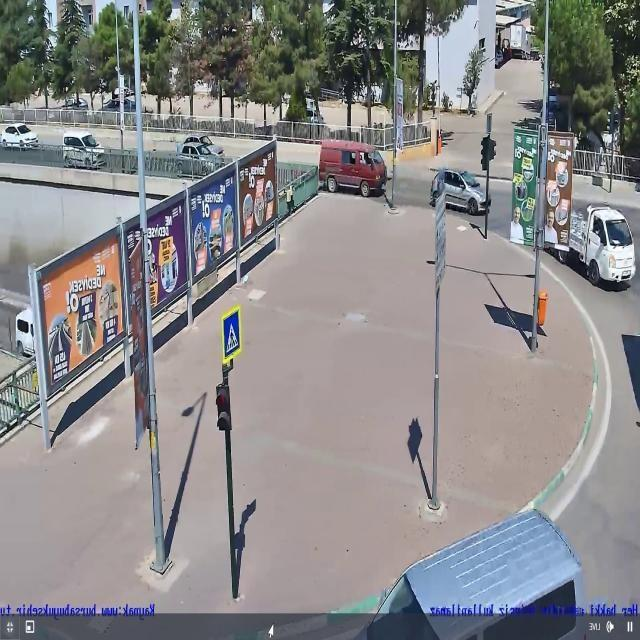Car: (429, 168, 494, 215), (173, 142, 226, 179), (62, 132, 107, 168), (177, 134, 225, 156), (0, 124, 39, 150)
Truck: (530, 206, 638, 288)
Van: (329, 504, 596, 640), (317, 138, 389, 198)
